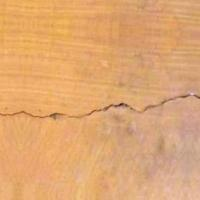crack: (0, 72, 196, 164)
